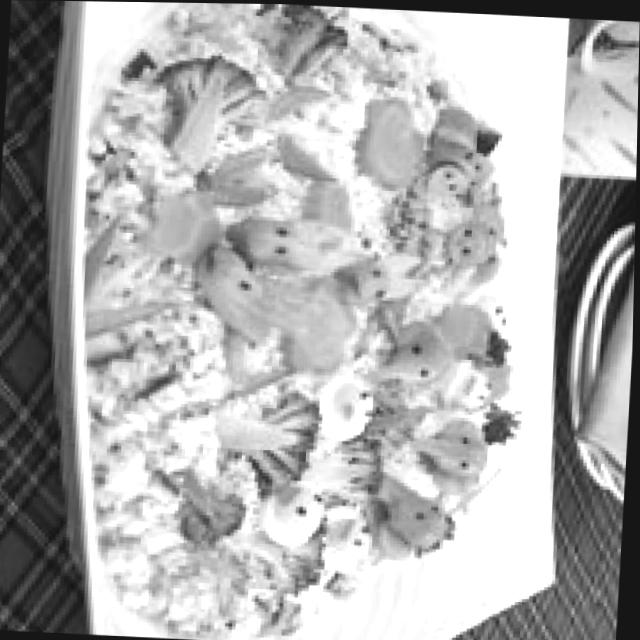寿司卷物: (67, 1, 548, 640)
